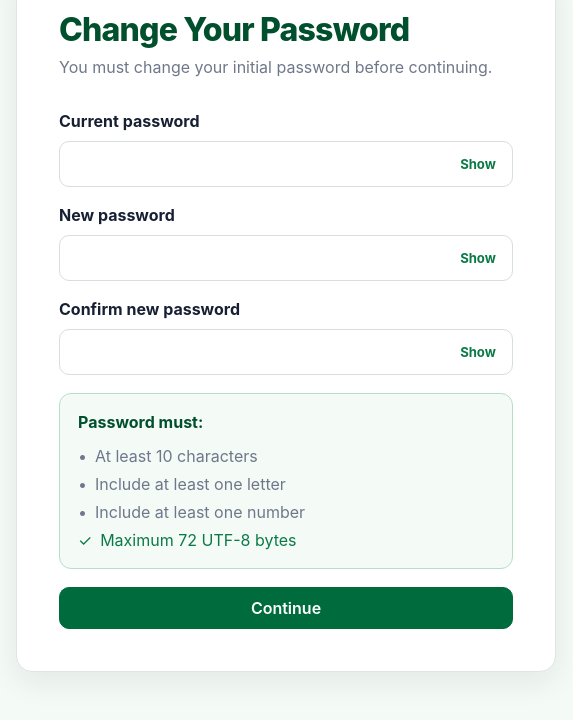
Test: Lab 3 Change Password UI › validates required fields, confirmation mismatch, and new=current before API submission
The image size is (573, 720).
(page scrolled)
Expected: the heading "Change Your Password" is shown, left=59, top=10, right=410, bottom=49
Click the button "Continue": (286, 608) left=59, top=587, right=513, bottom=629
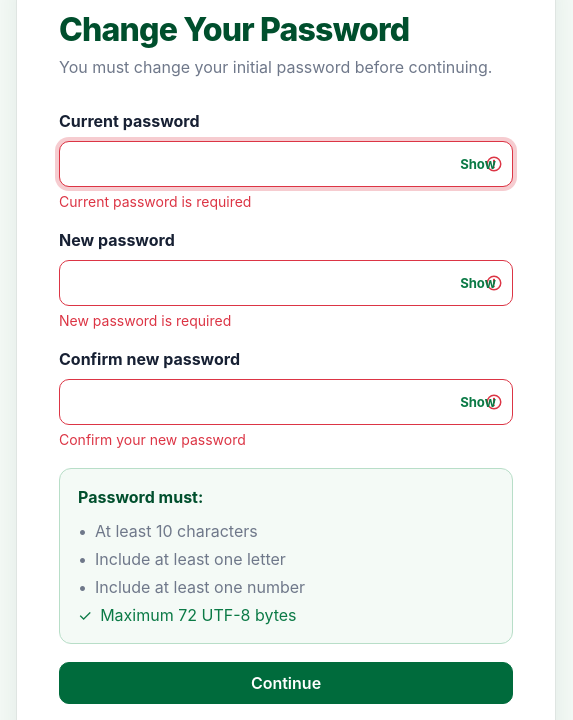
Expected: the text "Current password is required" is shown, left=59, top=193, right=251, bottom=210
Expected: the text "New password is required" is shown, left=59, top=312, right=231, bottom=329
Expected: the text "Confirm your new password" is shown, left=59, top=431, right=246, bottom=448
In the password field labelled "Current password": (286, 164) left=59, top=141, right=513, bottom=187, type "SamePassword1"
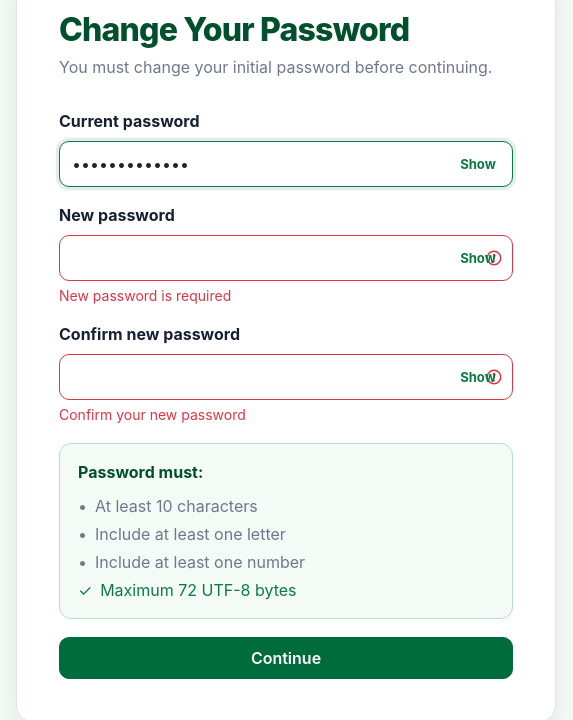
In the password field labelled "New password": (286, 258) left=59, top=235, right=513, bottom=281, type "SamePassword1"
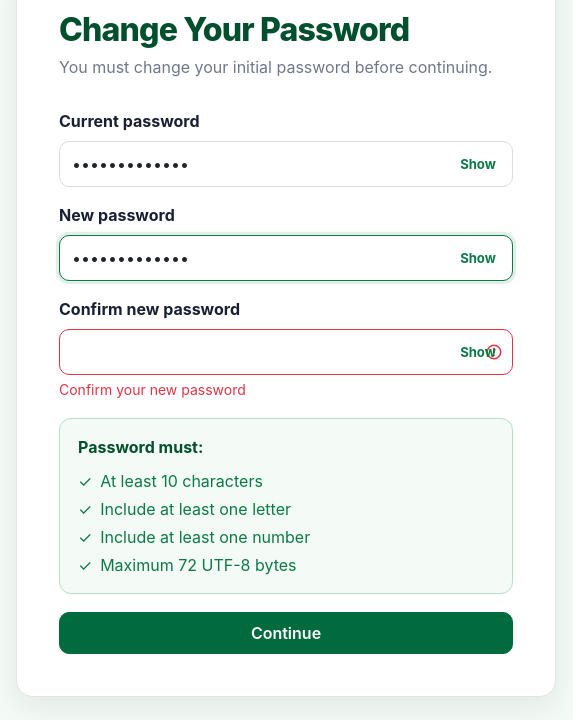
In the password field labelled "Confirm new password": (286, 352) left=59, top=329, right=513, bottom=375, type "DifferentPassword2"
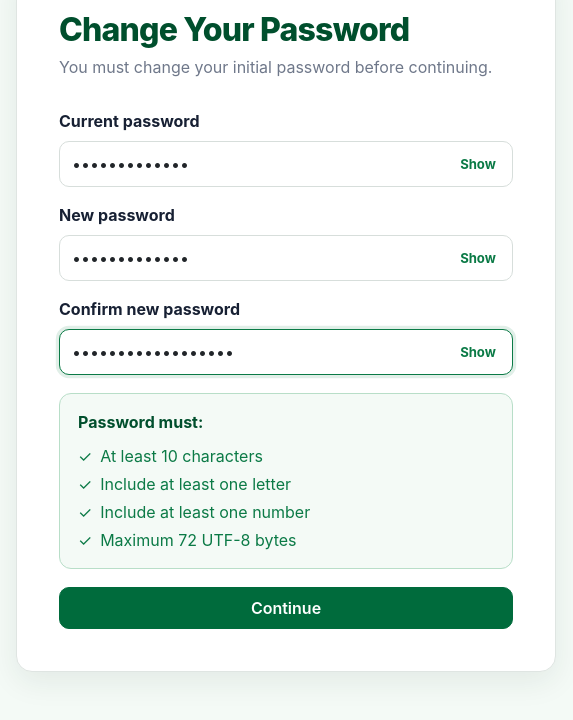
Click the button "Continue": (286, 608) left=59, top=587, right=513, bottom=629
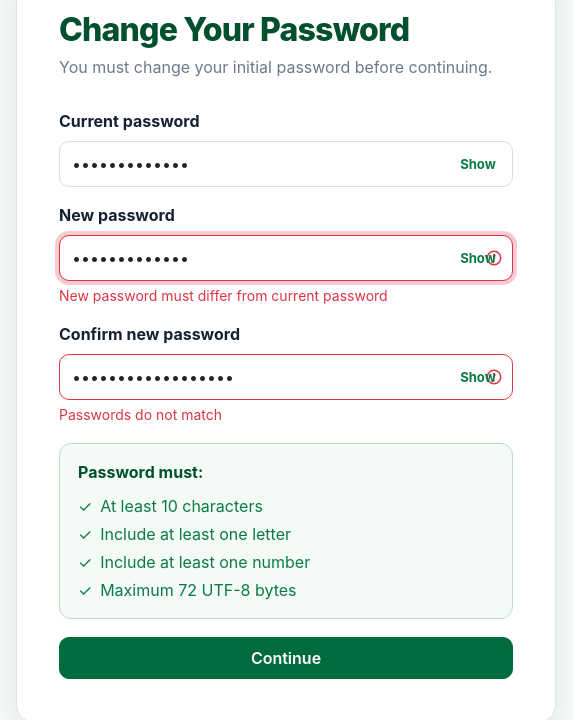
Expected: the text "New password must differ from current password" is shown, left=59, top=287, right=388, bottom=304
Expected: the text "Passwords do not match" is shown, left=59, top=406, right=222, bottom=423
